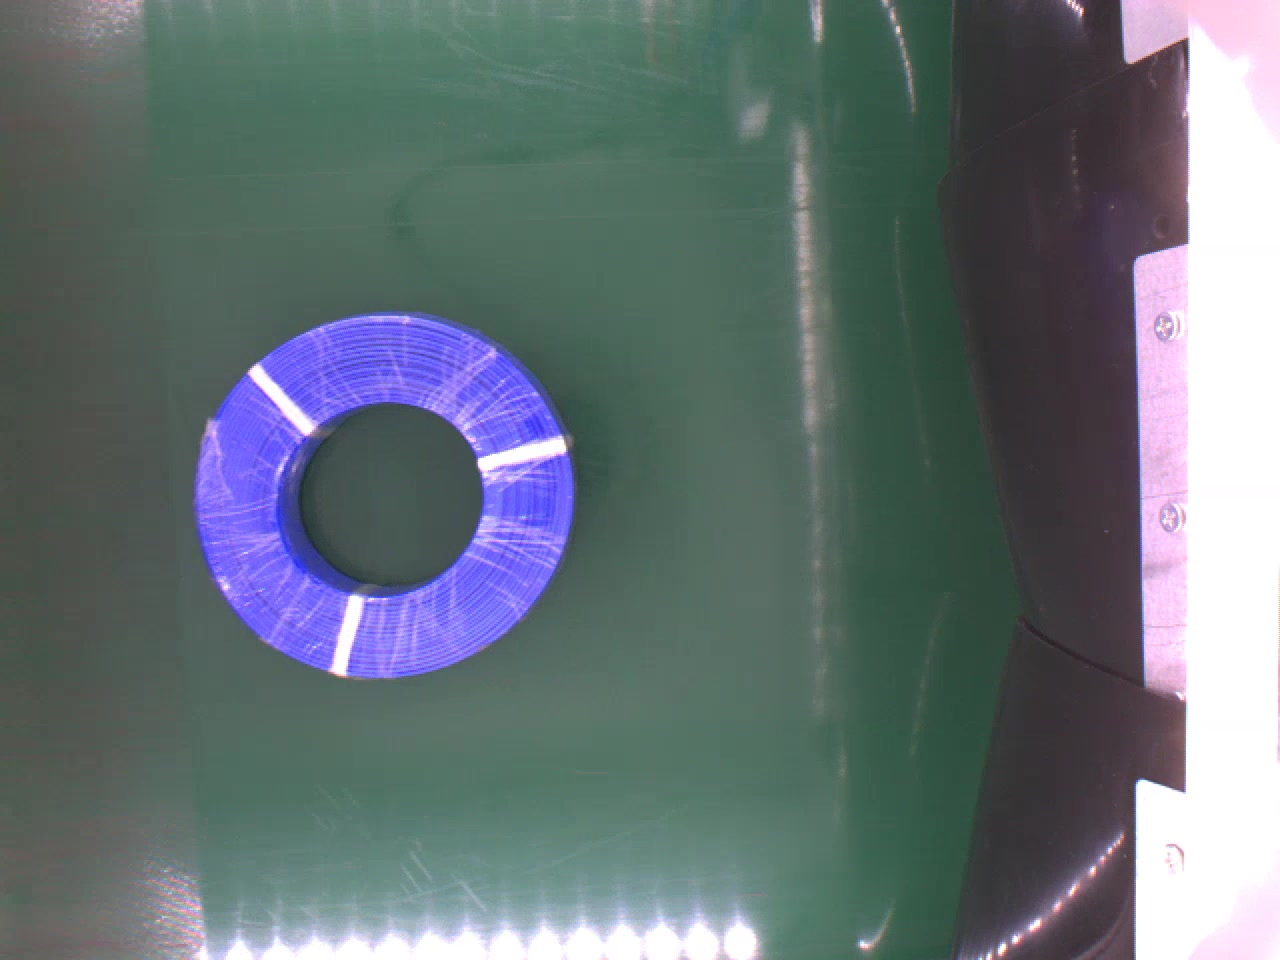blue: (193, 306, 577, 683)
